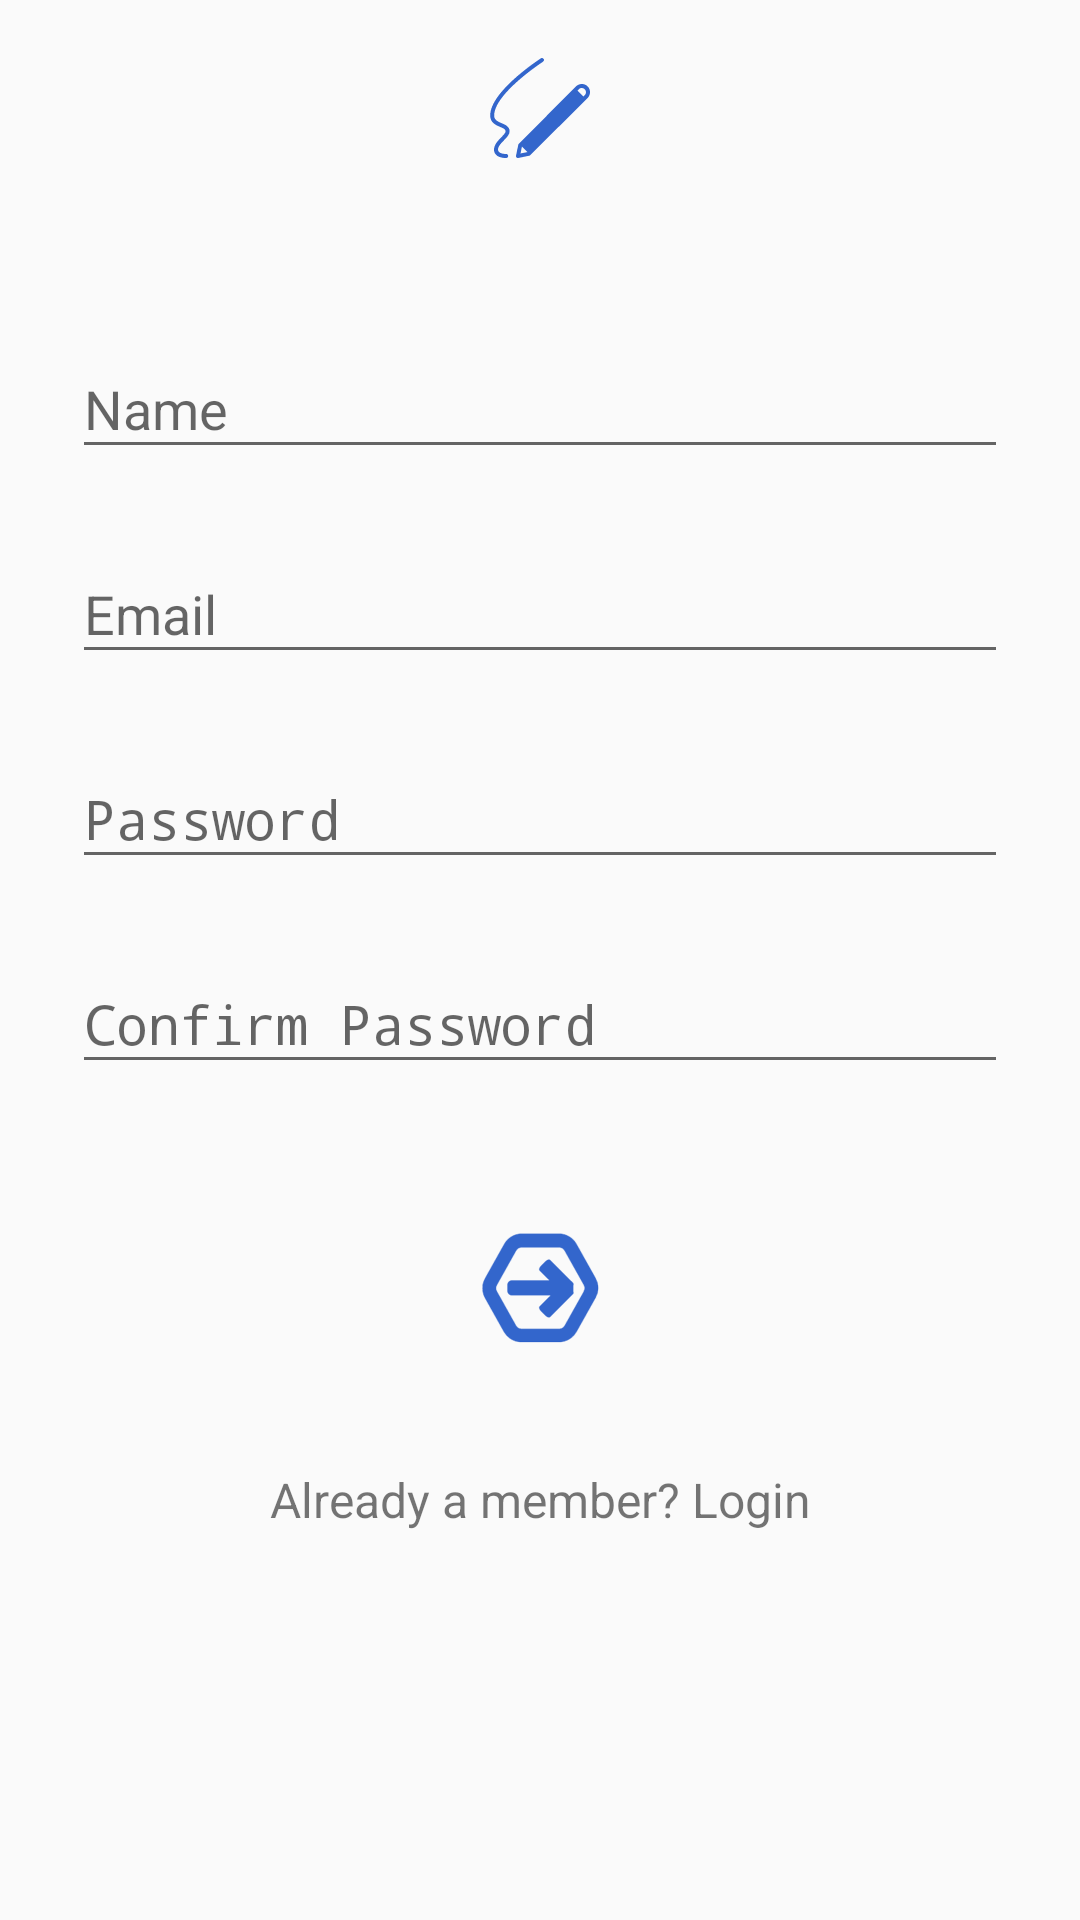

Locate icon controls on the screen. Image size 1080x1920, boxes as bbox=[x1, y1, x2, y2].
sign up: bbox=[490, 58, 590, 158]
